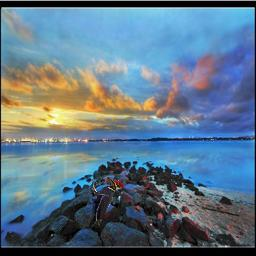Woodpecker: (88, 177, 124, 230)
